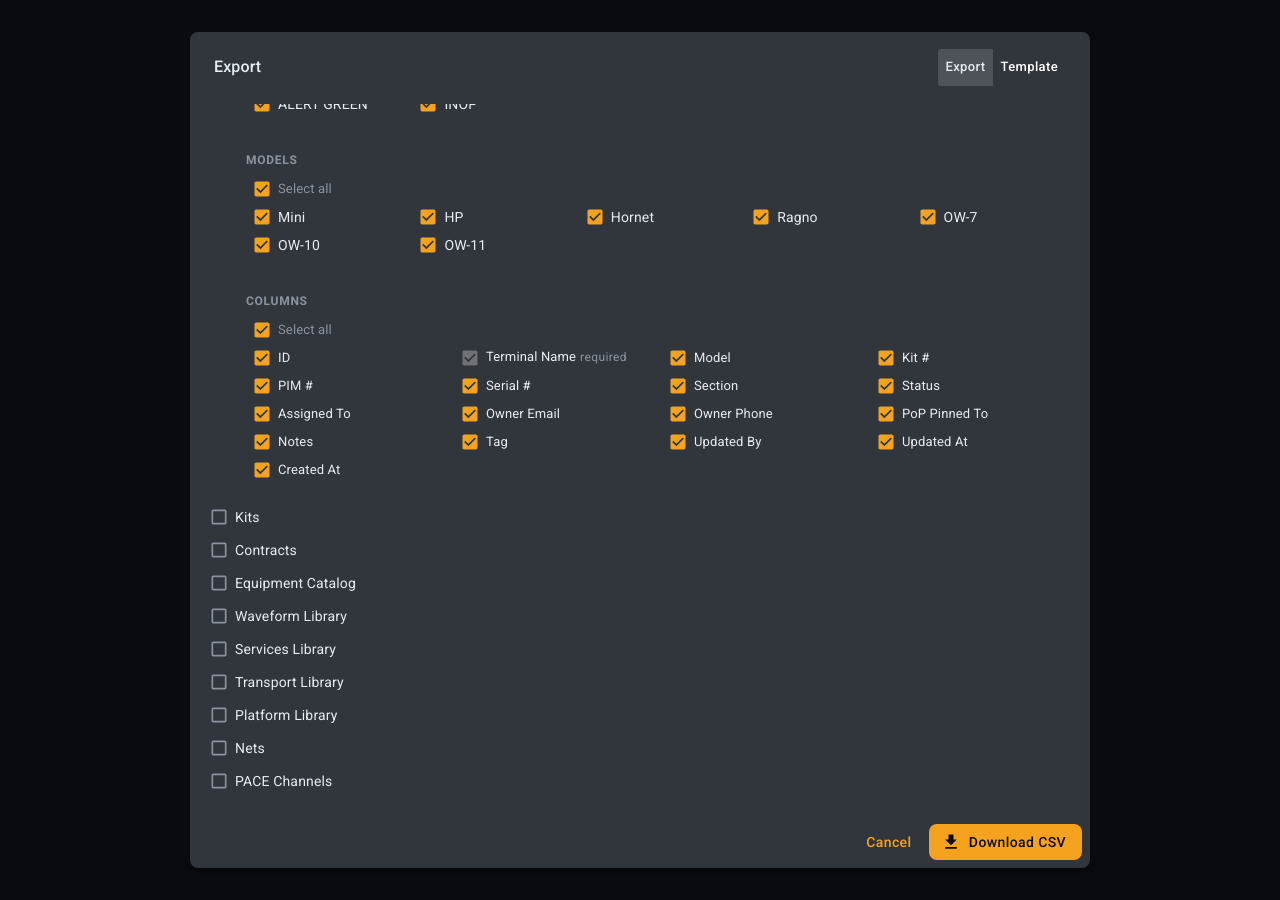
Test: CsvDialog › expands a dataset when it is ticked, with no chevron click
(page scrolled)
Click the checkbox labelled "Nets": x=237, y=748 top-left (209, 738), bottom-right (265, 758)
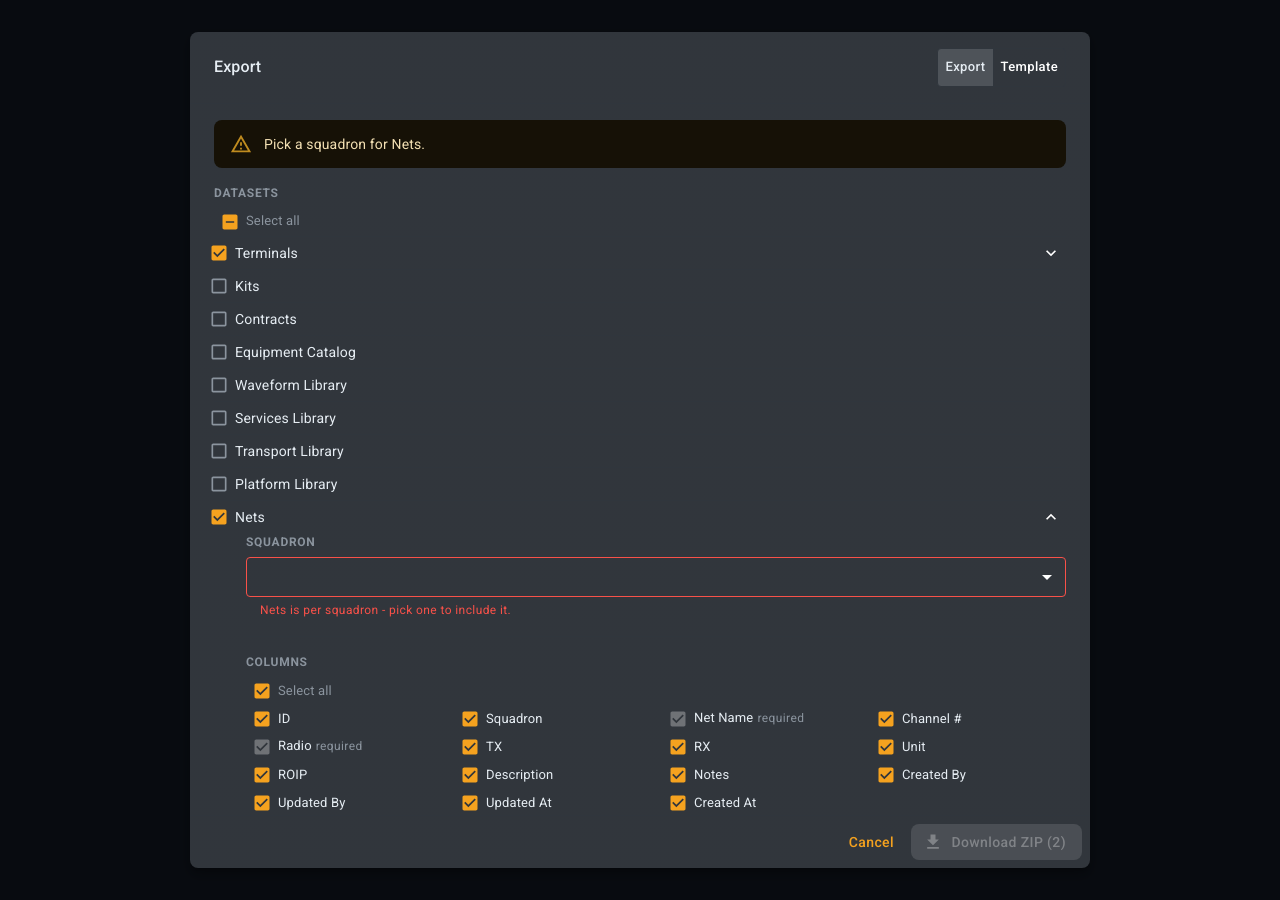
Expected: the 1st text "Squadron" is shown, top-left (246, 535), bottom-right (316, 549)
